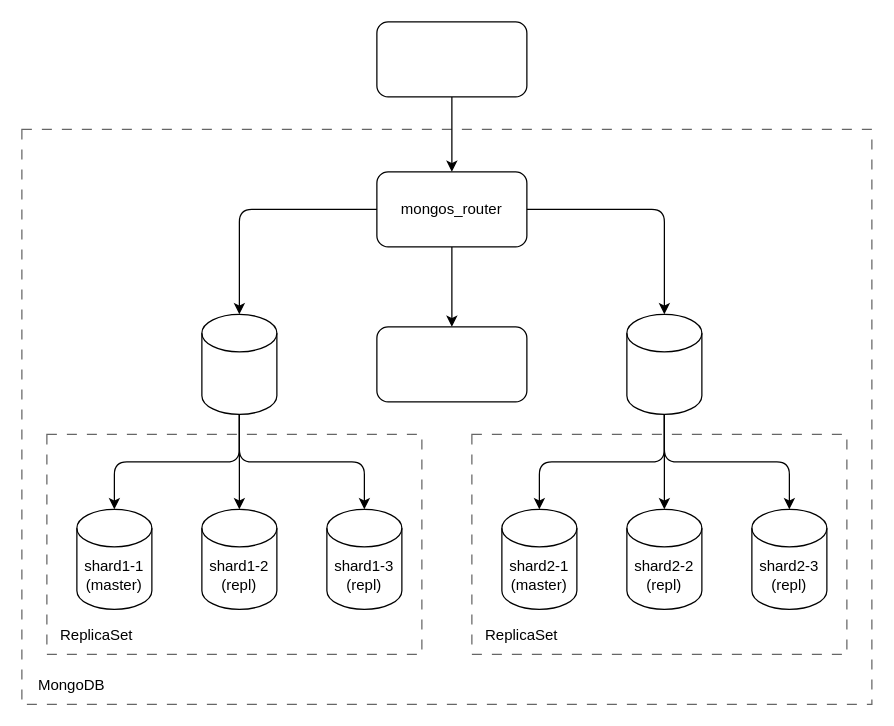
The diagram is 894 pixels wide and 726 high, and some of its shapes have lost their labels. Each missing label, with the box of its shape:
configSrv: (376, 326, 527, 402)
pymongo-api: (376, 21, 527, 97)
shard1: (201, 313, 277, 414)
shard2: (626, 313, 702, 414)
